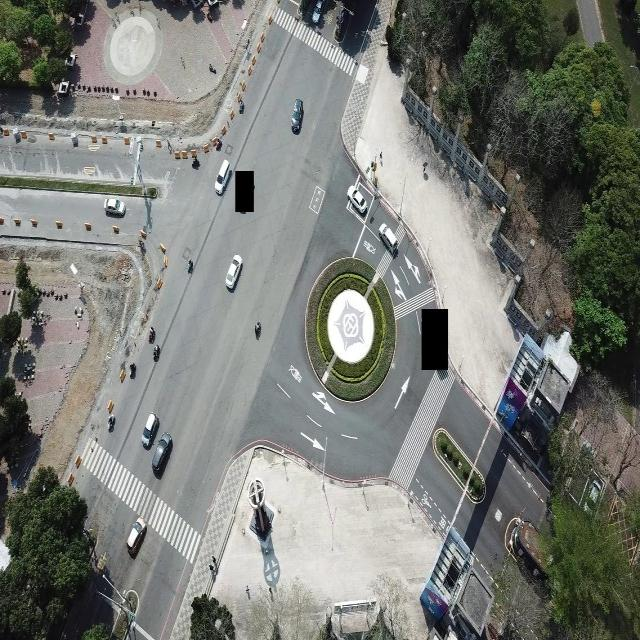bike: (186, 255, 197, 280), (128, 358, 136, 379), (148, 325, 156, 344), (150, 342, 158, 361), (107, 412, 114, 433), (254, 320, 260, 341)
car: (584, 477, 602, 524), (127, 518, 146, 556), (378, 222, 398, 256), (225, 254, 243, 290), (142, 413, 159, 448), (348, 184, 367, 215), (215, 159, 230, 194), (290, 98, 304, 133), (105, 196, 126, 217)
